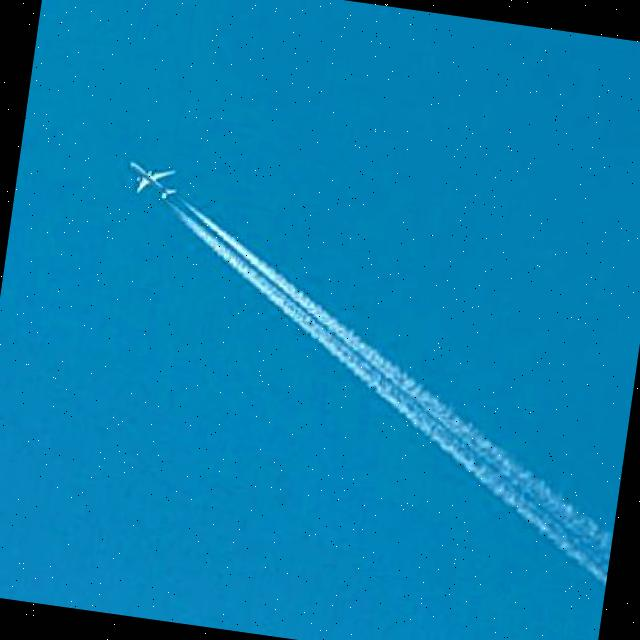Ct: (152, 126, 640, 579)
